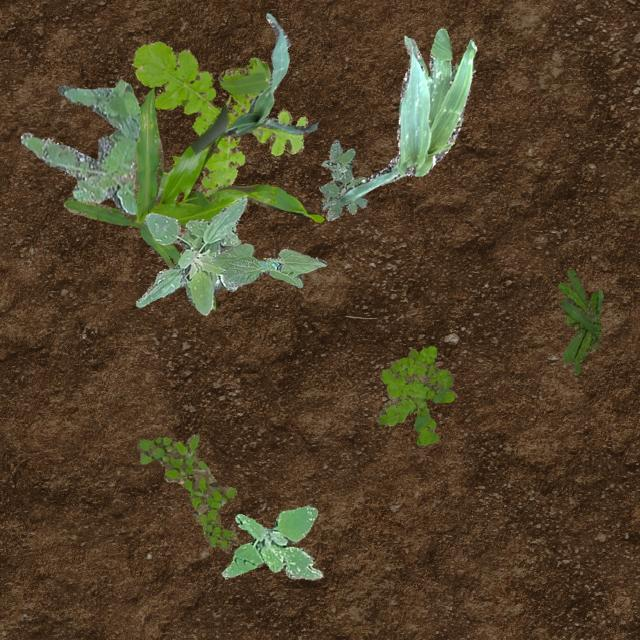crop: (62, 85, 324, 308), (338, 28, 476, 204), (136, 195, 247, 314), (220, 12, 316, 136), (208, 242, 326, 286)
weed: (130, 41, 306, 196), (19, 80, 175, 214), (136, 434, 238, 552), (374, 344, 454, 444), (222, 504, 322, 578), (556, 268, 602, 374), (318, 140, 366, 220)
